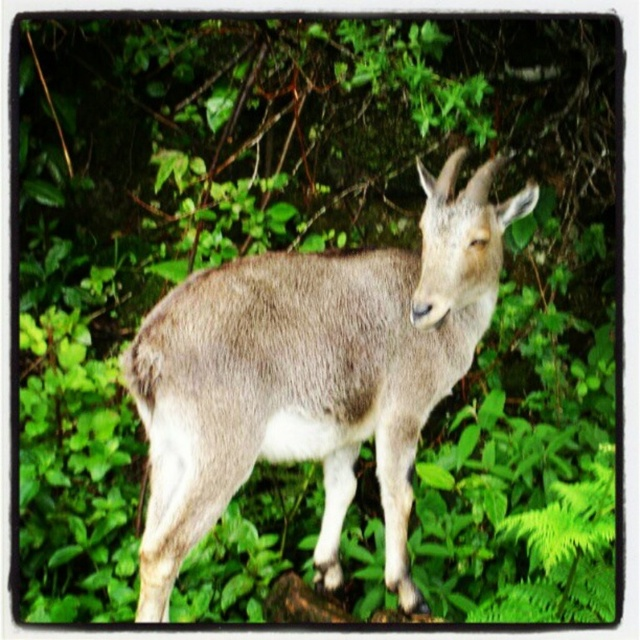Goat: (118, 146, 541, 623)
